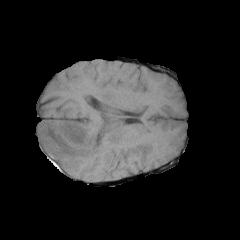glioma: (38, 119, 143, 169)
